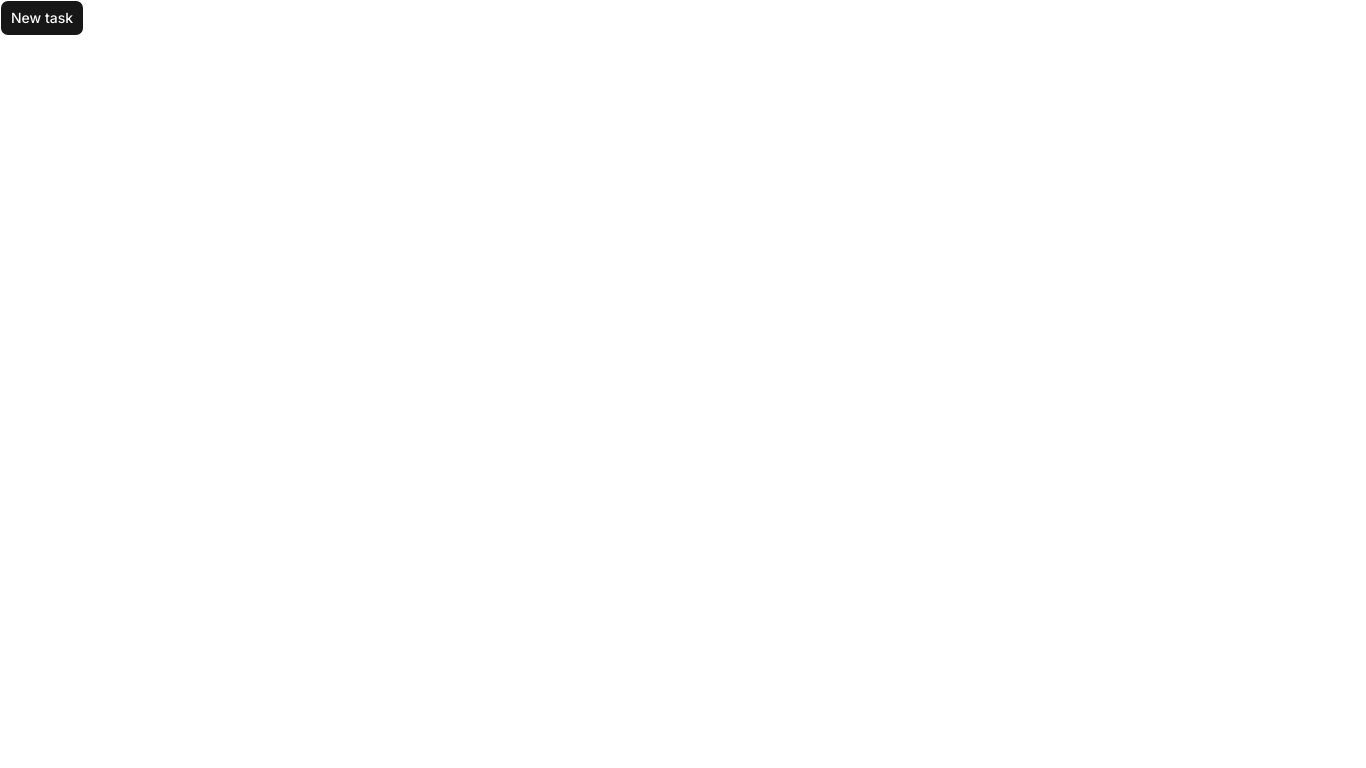
Test case: New task › keeps the text and says the service's reason when it refuses
Click the button "New task": (42, 18) [0,0,84,36]
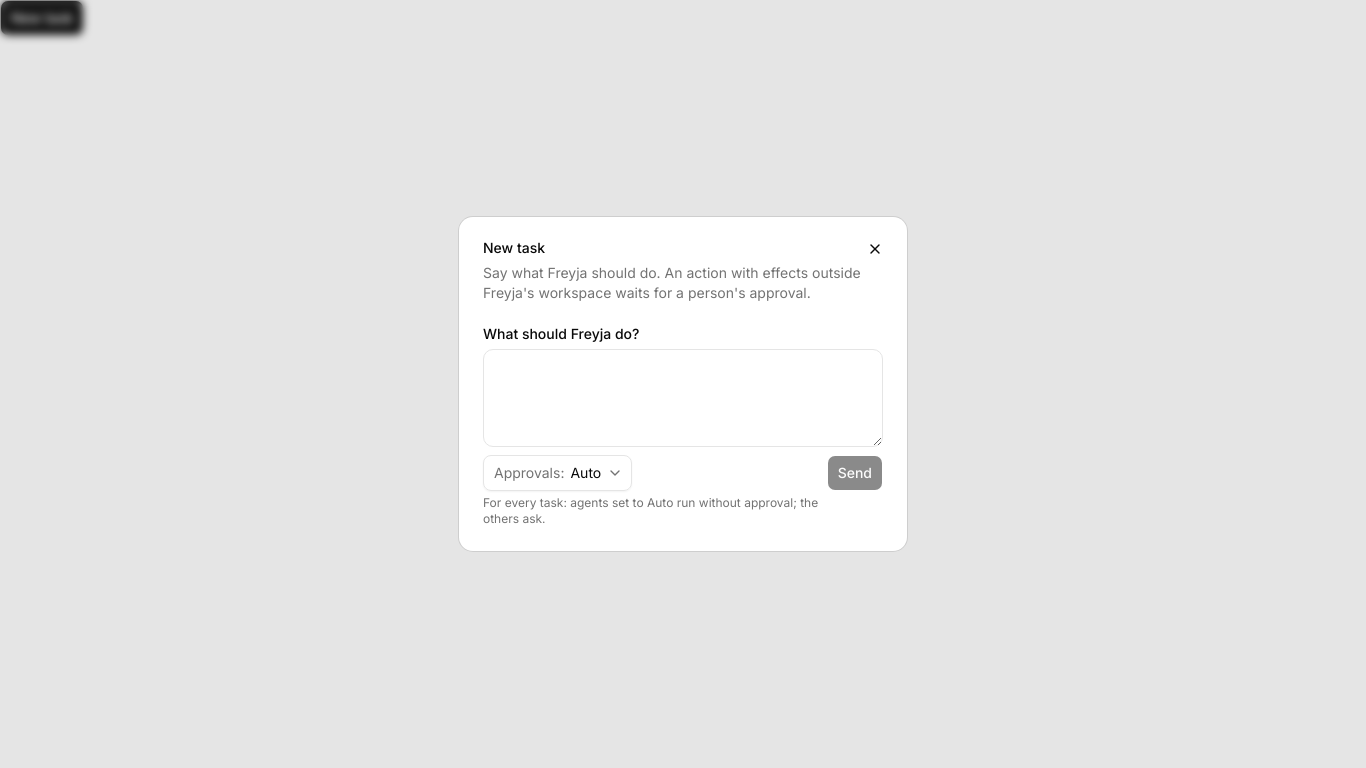
In the text box labelled "What should Freyja do?": (683, 398) [483,349,883,447], type "Summarize the week."
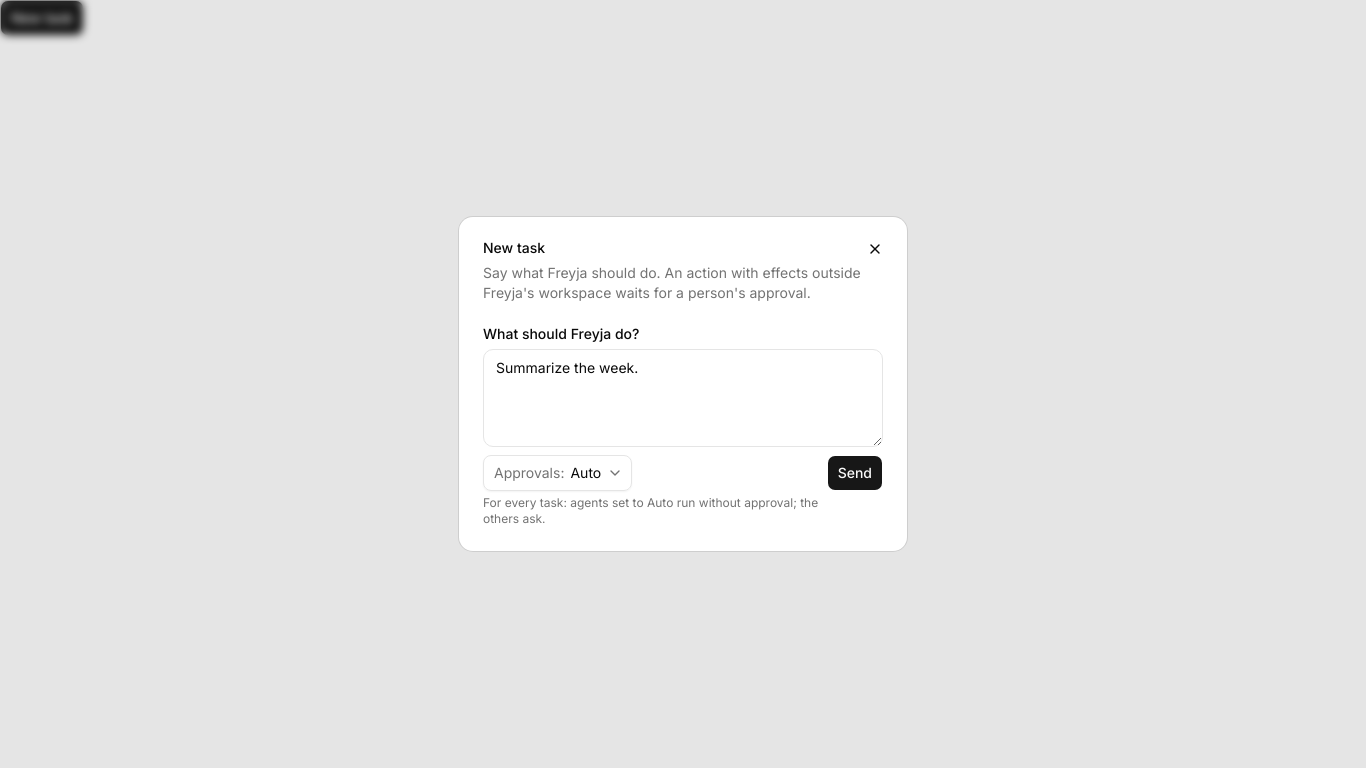
Click the button "Send": (855, 473) [827,455,883,491]
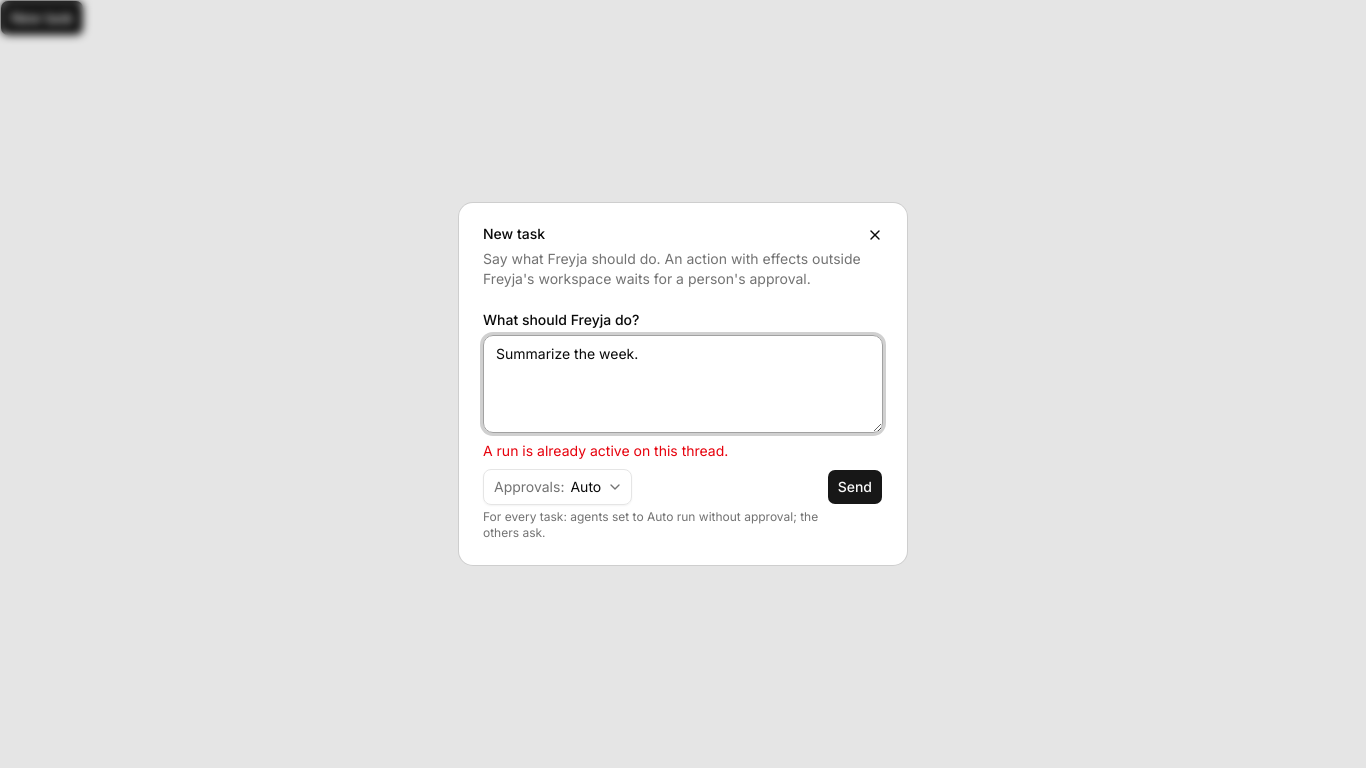
expect the message reads "A run is already active on this thread.": met, box [483,442,728,459]
